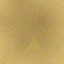structure: (26, 35, 41, 50)
